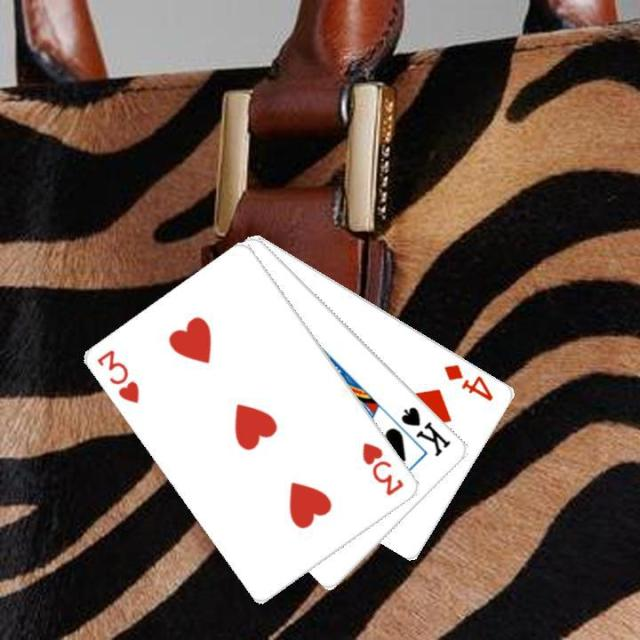3H: (358, 438, 406, 499), (94, 346, 142, 405)
4D: (440, 359, 496, 403)
KS: (398, 402, 453, 458)
